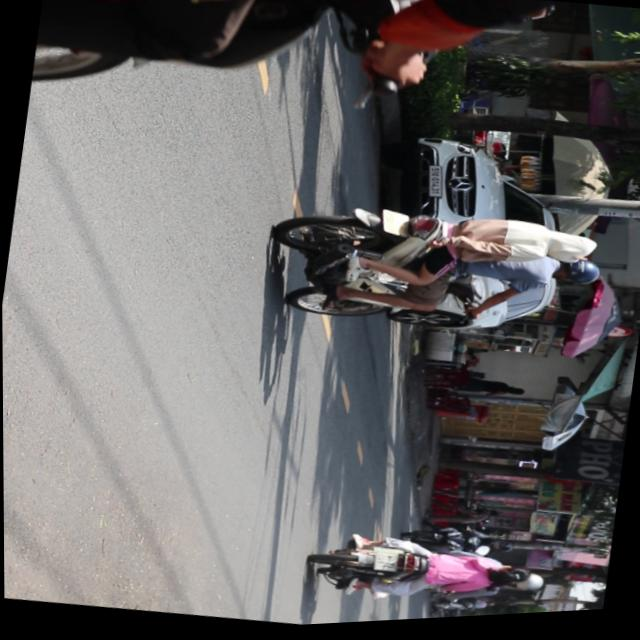helmet: (544, 231, 600, 270), (551, 260, 603, 295), (510, 573, 545, 599)
licenseplate: (260, 184, 611, 363), (303, 521, 549, 628)
motorcyclist: (484, 568, 525, 595)
nohelmet: (380, 212, 407, 241), (373, 552, 399, 576)
